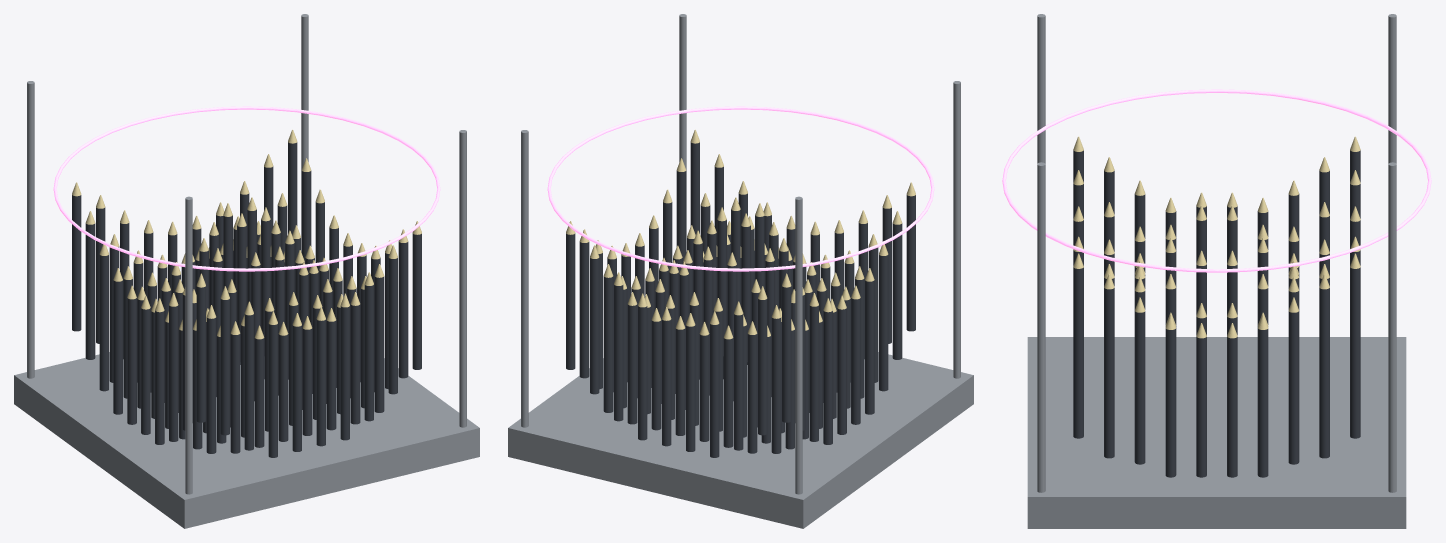
Rendered from project_kinetic_monolith.glb.
3 views of the same model, side by side, from view 1: azimuth 30°, elevation 25°; view 2: azimuth 150°, elevation 25°; view 3: azimuth 270°, elevation 25° (orthographic). The views are drawn at different scales.
Parts seen in each view (by area): view 1: Monolith_Base_Chassis, Laser_Emitter_Ring, Frame_Post_3, Frame_Post_2, Frame_Post_4, Piston_1_8, Piston_1_9, Piston_1_1, Piston_8_0, Piston_2_0, Piston_0_0, Piston_0_9 (+42 smaller); view 2: Monolith_Base_Chassis, Laser_Emitter_Ring, Frame_Post_2, Frame_Post_1, Frame_Post_3, Piston_8_8, Piston_8_9, Piston_8_1, Piston_1_0, Piston_7_0, Piston_9_0, Piston_9_9 (+42 smaller); view 3: Monolith_Base_Chassis, Laser_Emitter_Ring, Frame_Post_1, Frame_Post_4, Piston_2_9, Piston_7_9, Piston_3_9, Piston_6_9, Piston_0_9, Piston_1_9, Piston_8_9, Piston_9_9 (+4 smaller).
Part boxes in pixels (x1,y1,x2,y2): Monolith_Base_Chassis: (14, 352, 479, 528); Laser_Emitter_Ring: (53, 106, 440, 271); Frame_Post_3: (185, 196, 192, 494); Frame_Post_2: (27, 81, 34, 378); Frame_Post_4: (459, 130, 466, 427); Piston_1_8: (374, 276, 384, 412); Piston_1_9: (398, 242, 408, 378); Piston_1_1: (206, 317, 216, 453); Piston_8_0: (85, 223, 95, 359); Piston_2_0: (169, 305, 178, 441); Piston_0_0: (196, 286, 205, 422); Piston_0_9: (412, 233, 421, 369); Monolith_Base_Chassis: (508, 352, 973, 528); Laser_Emitter_Ring: (547, 106, 934, 271); Frame_Post_2: (795, 196, 802, 494); Frame_Post_1: (521, 130, 528, 427); Frame_Post_3: (953, 81, 960, 378); Piston_8_8: (603, 276, 613, 412); Piston_8_9: (579, 242, 589, 378); Piston_8_1: (771, 317, 781, 453); Piston_1_0: (892, 223, 902, 359); Piston_7_0: (809, 305, 818, 441); Piston_9_0: (782, 286, 791, 422); Piston_9_9: (566, 233, 575, 369); Monolith_Base_Chassis: (1027, 337, 1406, 528); Laser_Emitter_Ring: (1002, 89, 1431, 272); Frame_Post_1: (1388, 162, 1396, 492); Frame_Post_4: (1037, 162, 1045, 492); Piston_2_9: (1134, 311, 1145, 462); Piston_7_9: (1288, 311, 1299, 462); Piston_3_9: (1165, 328, 1176, 477); Piston_6_9: (1257, 328, 1268, 477); Piston_0_9: (1073, 267, 1083, 418); Piston_1_9: (1104, 288, 1114, 439); Piston_8_9: (1319, 288, 1329, 439); Piston_9_9: (1350, 267, 1360, 418).
Bounding box in the file's own units: 3.63 × 3.35 × 3.63.
